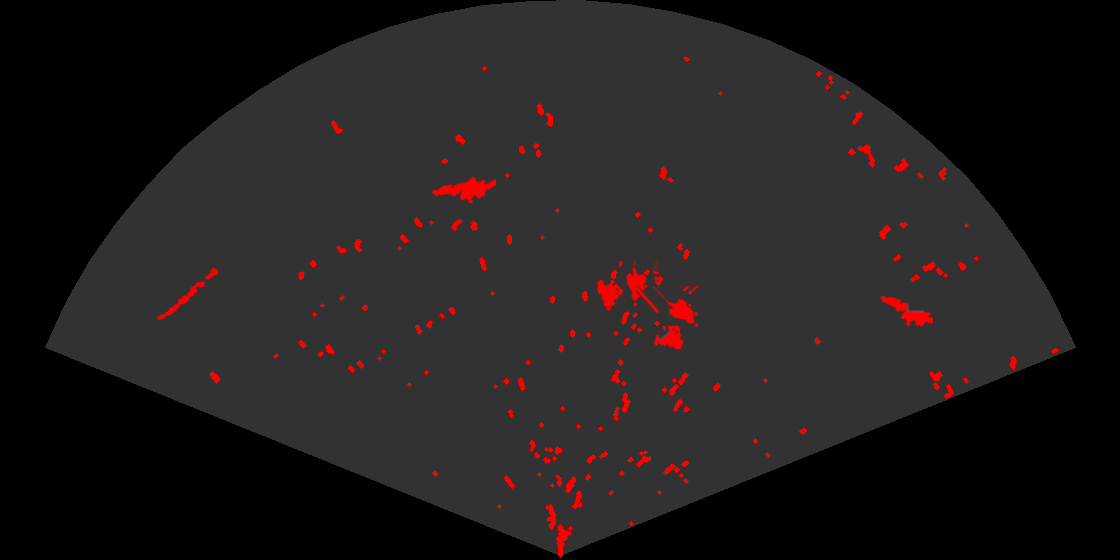cage: (636, 286, 701, 351), (594, 261, 659, 309)
chain: (155, 261, 229, 322)
frogman: (430, 175, 496, 205), (878, 294, 933, 328)
